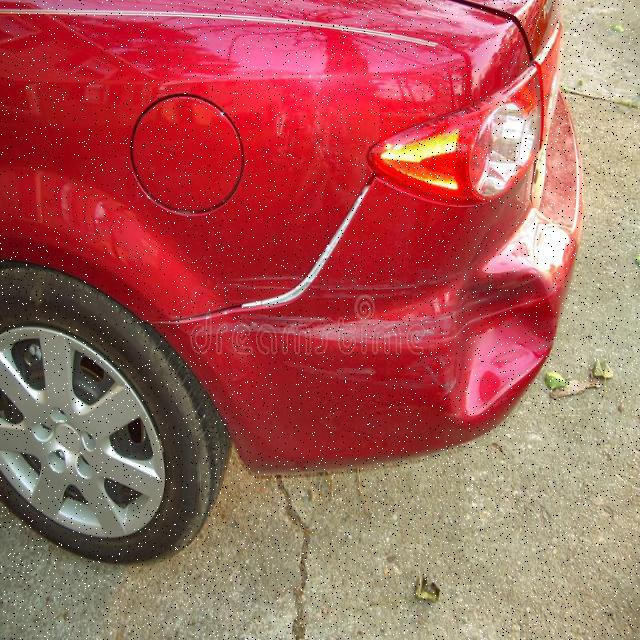rear-bumper-dent: (170, 218, 568, 480)
